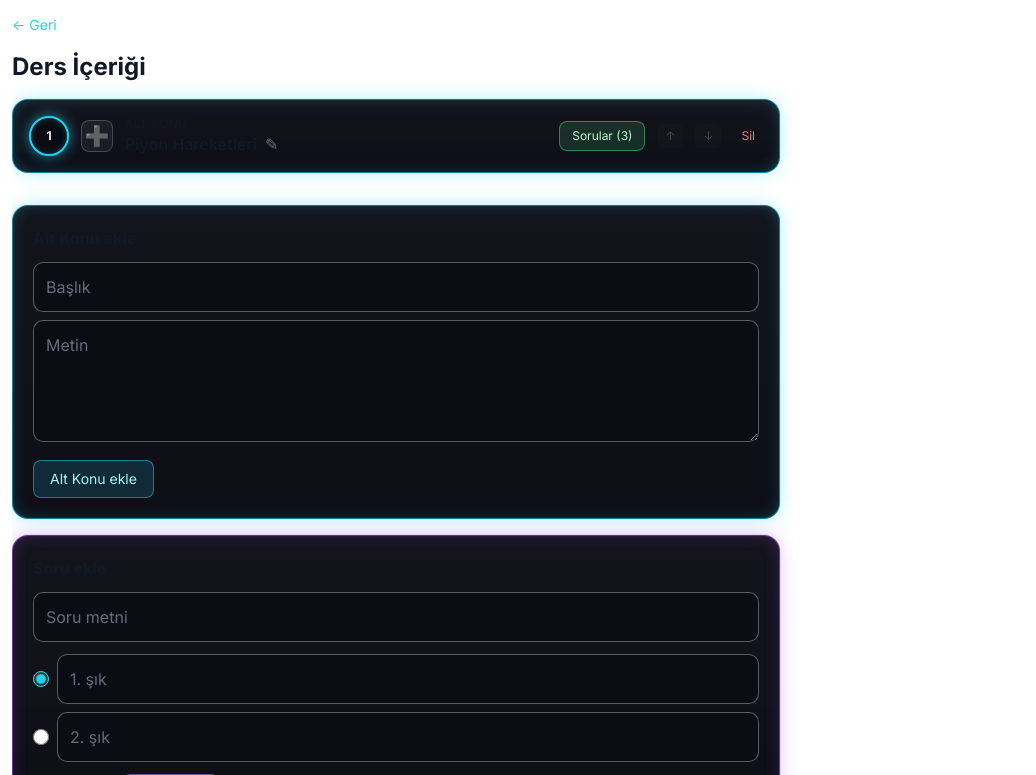
Scenario: Admin ders sayfası — "Ödevini Yap": sadece Soru Sayısı (Başarı Puanı YOK) › havuzdan fazla sayı girilirse kaydedilmez, uyarı gösterilir
Step 1. Click the button "Sorular (3)" → click(602, 136), box x1=559 y1=121 x2=645 y2=151
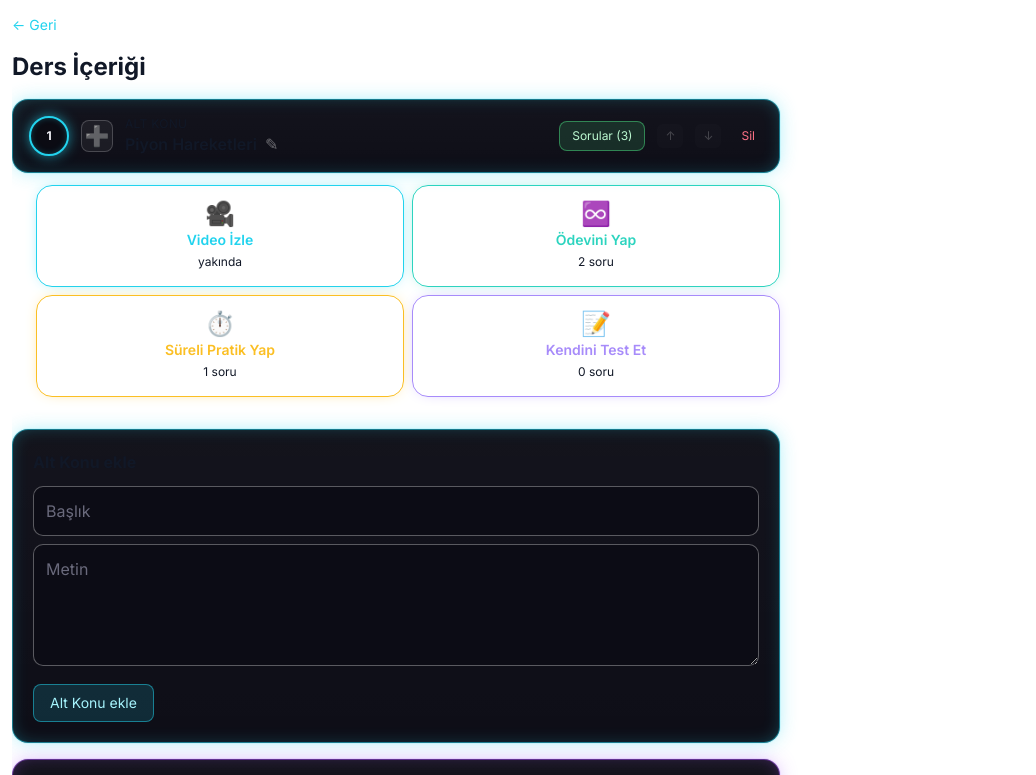
Expected: the text "Ödevini Yap" is shown
Step 2. Click the text "Ödevini Yap" → click(596, 240), box x1=556 y1=230 x2=636 y2=250
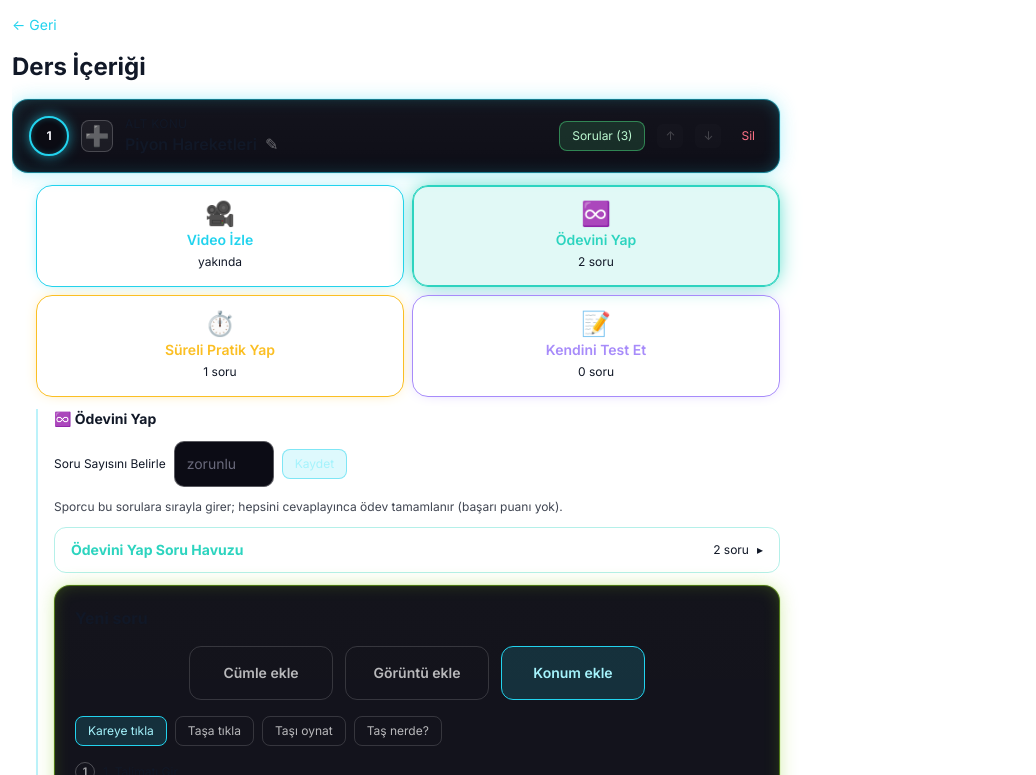
Expected: the text "Soru Sayısını Belirle" is shown, x1=54 y1=456 x2=166 y2=472
Step 3. Type "5" into the number field labelled "Soru Sayısını Belirle" → (224, 464), box x1=174 y1=441 x2=274 y2=487
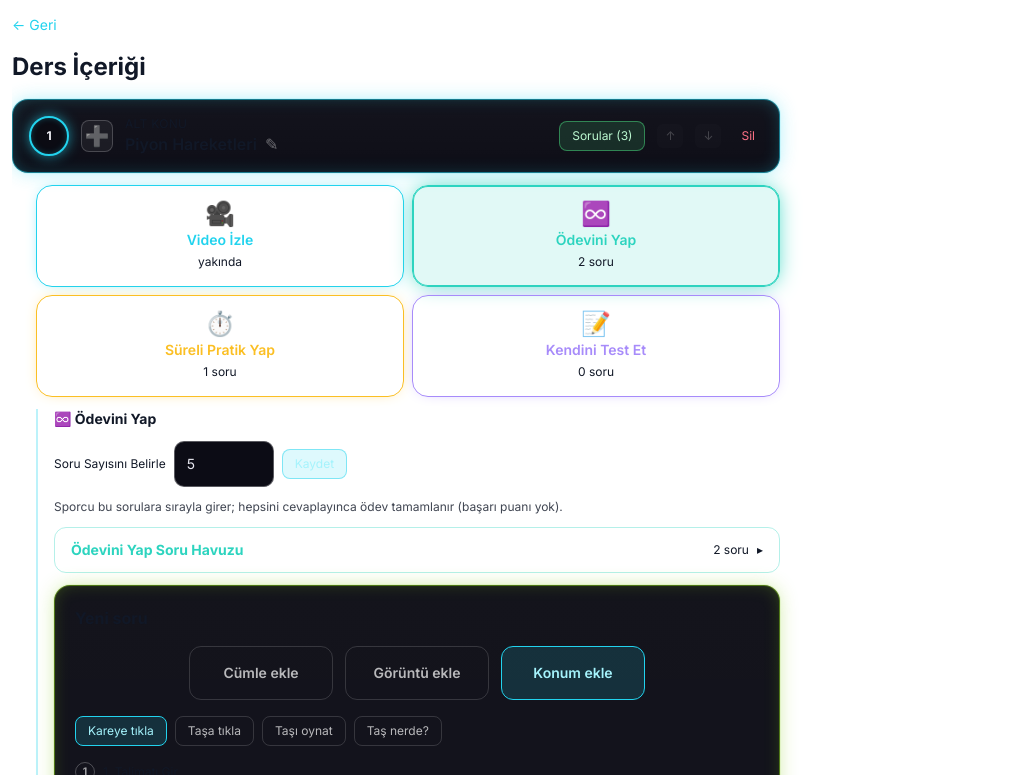
Step 4. Click the button "Kaydet" → click(314, 464), box x1=282 y1=449 x2=347 y2=479
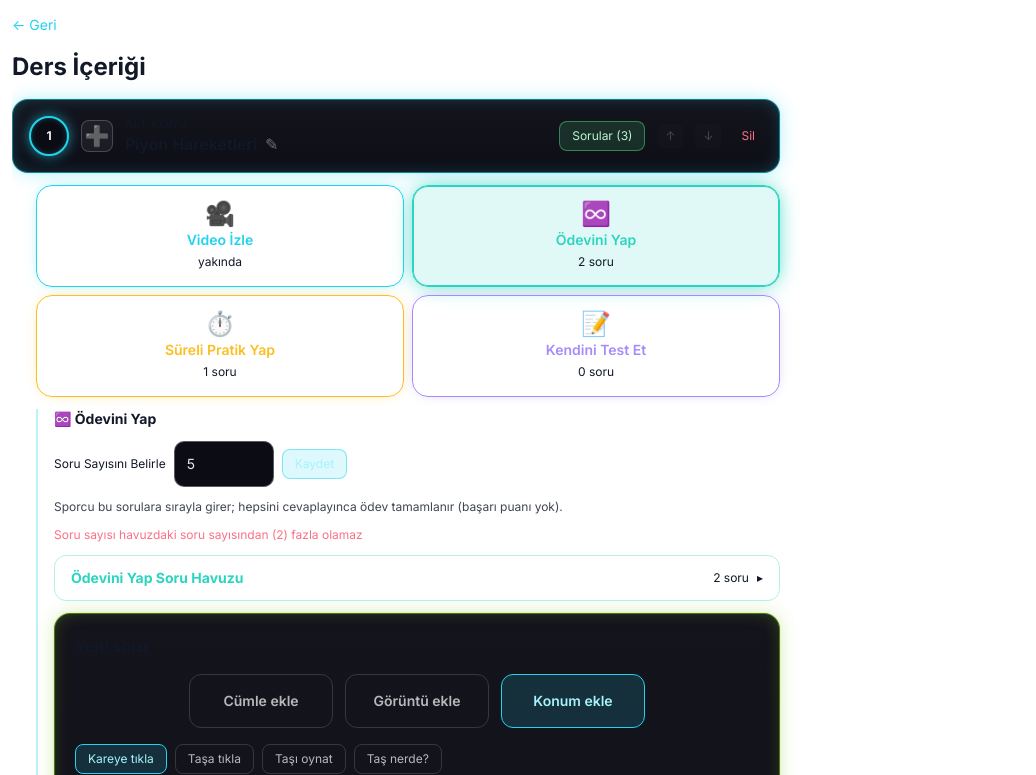
Expected: the text "Soru sayısı havuzdaki soru sayısından (2) fazla olamaz" is shown, x1=54 y1=527 x2=363 y2=542
